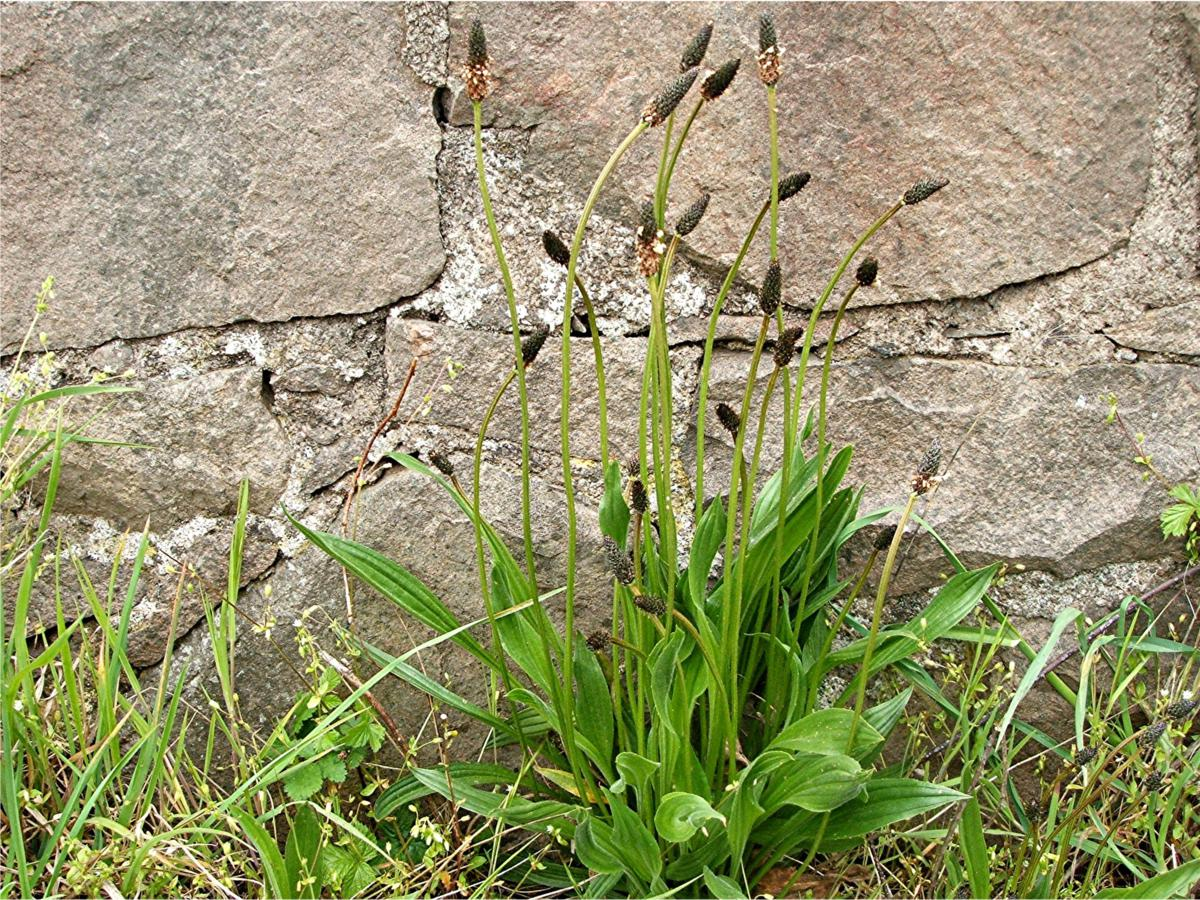buckhorn plantain: (299, 7, 986, 878)
